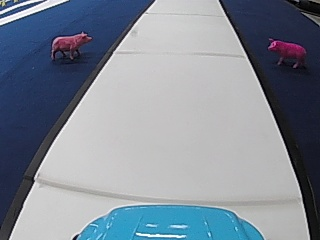pig: (48, 29, 91, 61), (266, 35, 307, 67)
